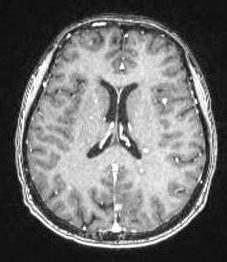Normal_Brain: (1, 4, 218, 255)
